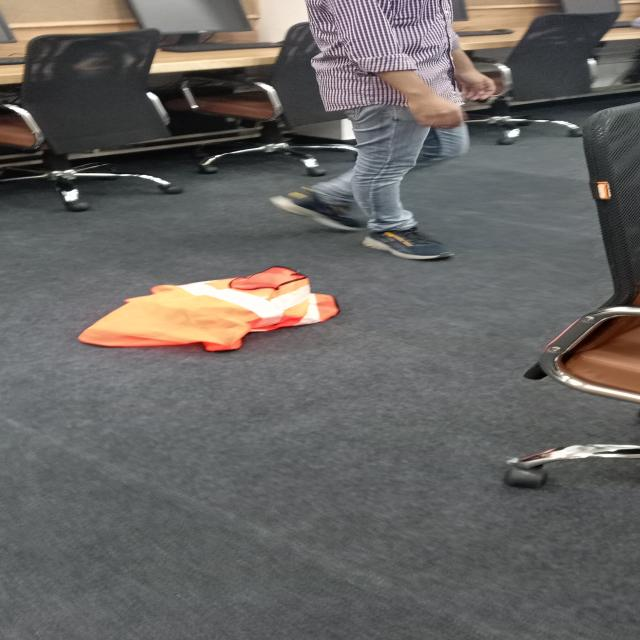unsafe: (296, 0, 495, 264)
